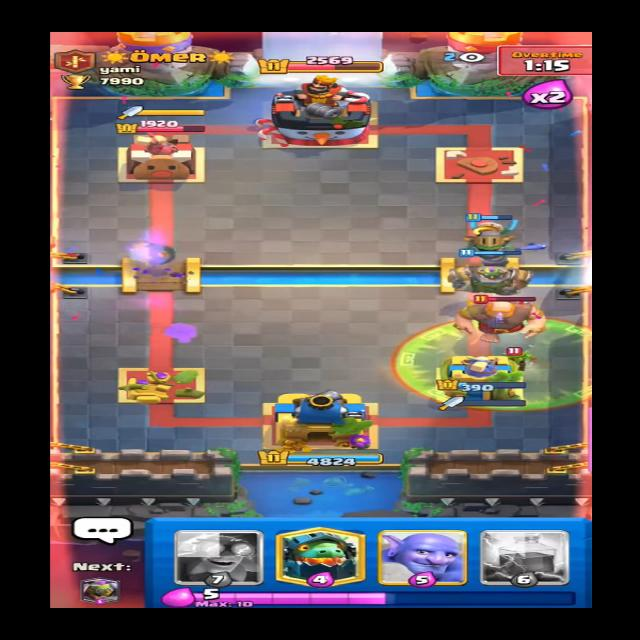Giant: (461, 288, 550, 340)
Goblin: (503, 339, 542, 367)
Goblincurse: (391, 320, 594, 409)
